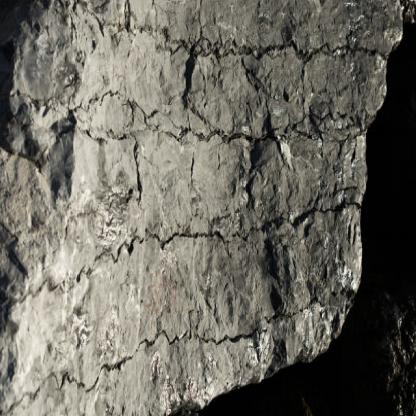Sedimentary_Limestone: (1, 5, 404, 415)
